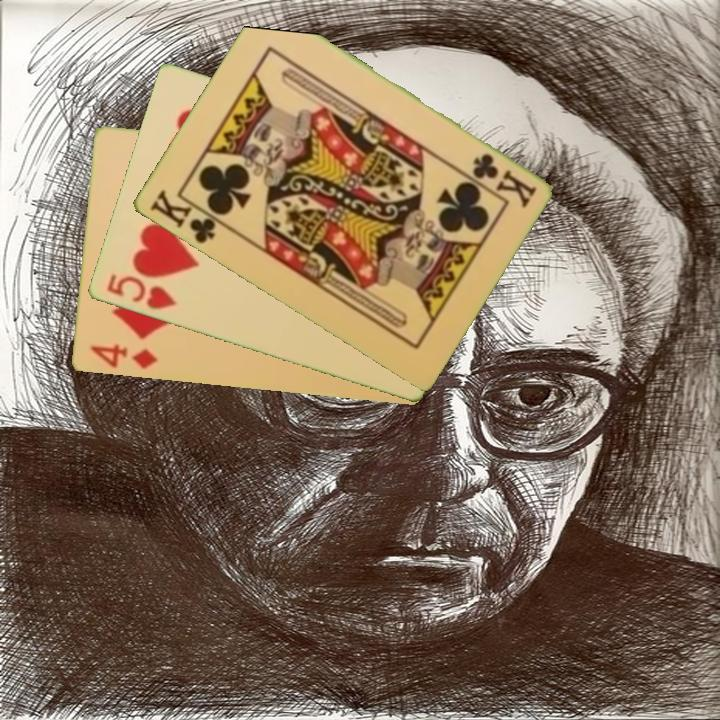4d: (86, 340, 160, 373)
5h: (103, 271, 179, 313)
Kc: (145, 186, 228, 247), (468, 149, 539, 209)
